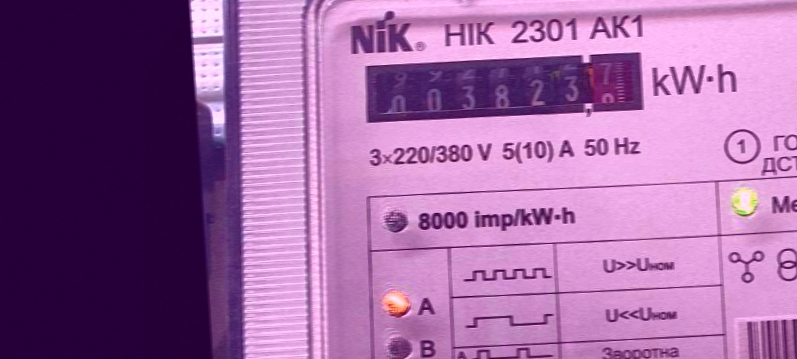0: (421, 84, 443, 113), (388, 91, 407, 115)
2: (526, 76, 547, 109)
3: (561, 73, 581, 104), (457, 81, 477, 111)
7: (597, 61, 615, 89)
8: (491, 81, 510, 110)
9: (388, 70, 407, 90)
screen: (356, 44, 648, 133)
